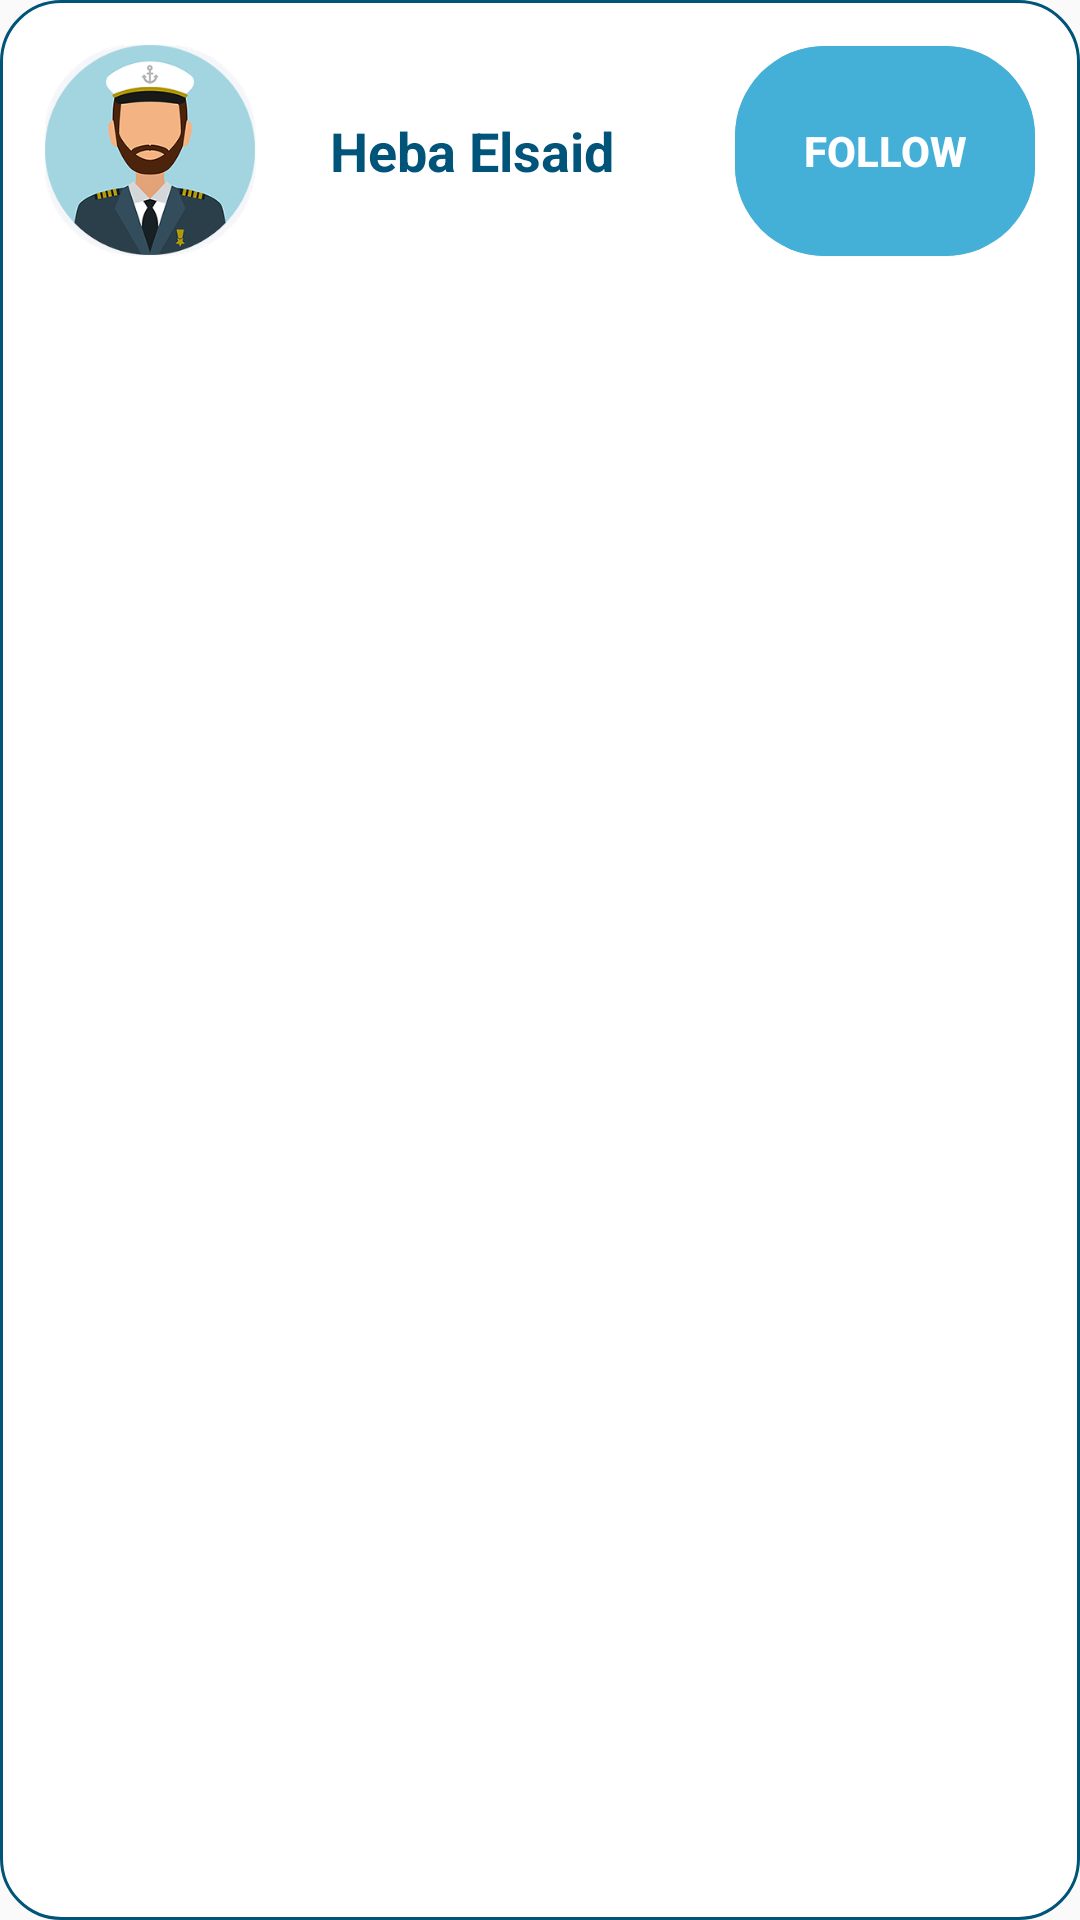

Icon bounding boxes for this 1080px×1920px phone screenshot, format (x1, y1, x2, y2):
user: (45, 45, 255, 255)
